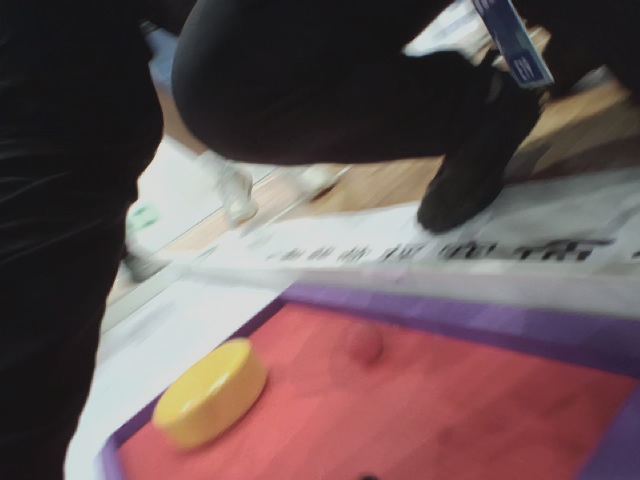kuang: (99, 279, 640, 480)
red: (340, 317, 385, 364)
yellow: (153, 336, 269, 447)
